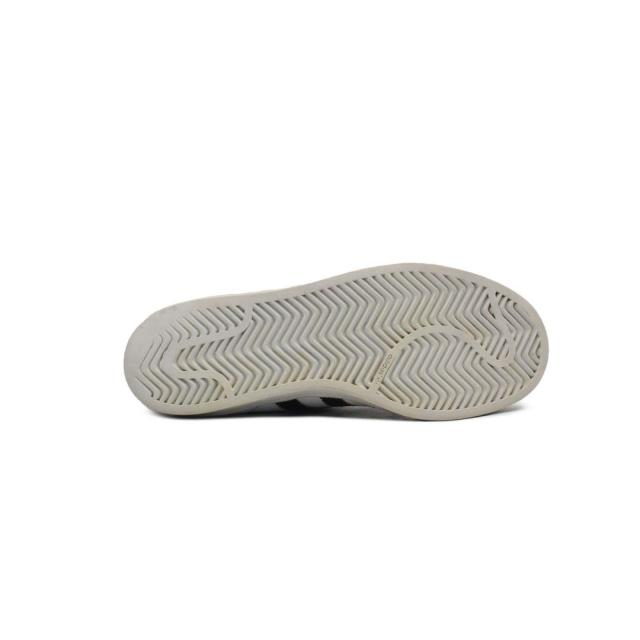outersole: (124, 262, 554, 425)
